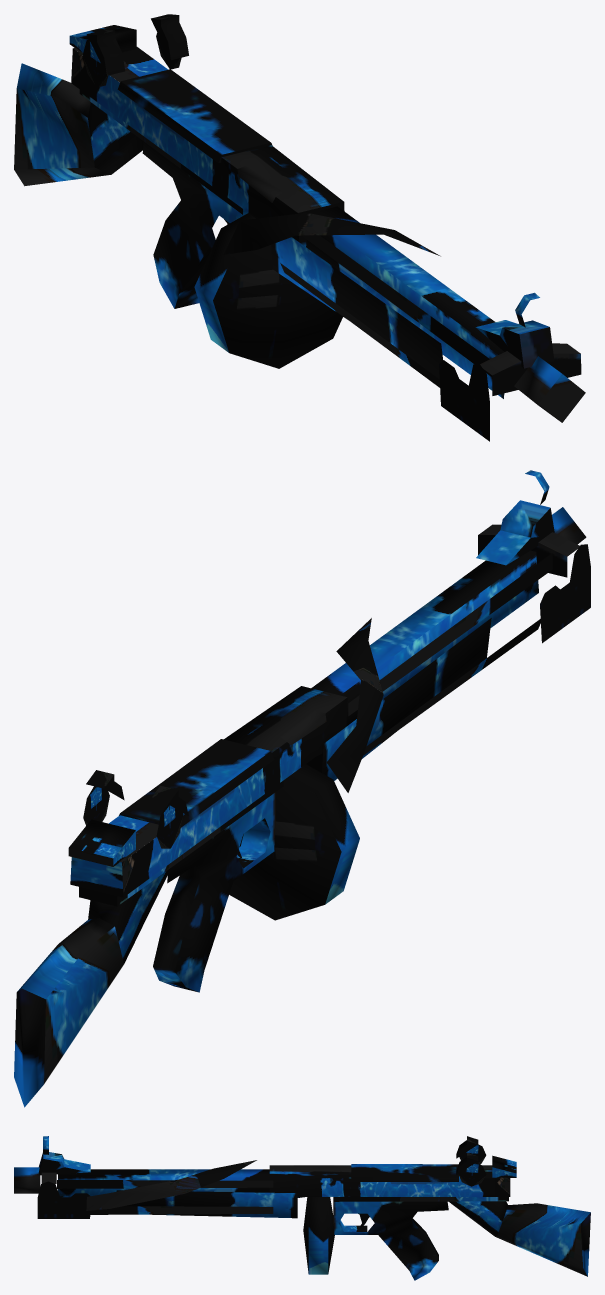
File: SMG_Thompson_SMG_WaterSplashing_Skin_Body_LOD_(000324).glb
3 renders of one model, top to bottom at view 1: azimuth 30°, elevation 25°; view 2: azimuth 150°, elevation 25°; view 3: azimuth 270°, elevation 25°, orthographic. The views are drawn at different scales.
Parts seen in each view (by area): view 1: tomson_lod2; view 2: tomson_lod2; view 3: tomson_lod2.
Part boxes in pixels (left/top/right/bottom): tomson_lod2: left=14, top=14, right=585, bottom=441; tomson_lod2: left=14, top=470, right=590, bottom=1107; tomson_lod2: left=14, top=1136, right=590, bottom=1280.
Bounding box in the file's own units: 0.16 × 0.2728 × 1.02.
1 material, 1 textured.
